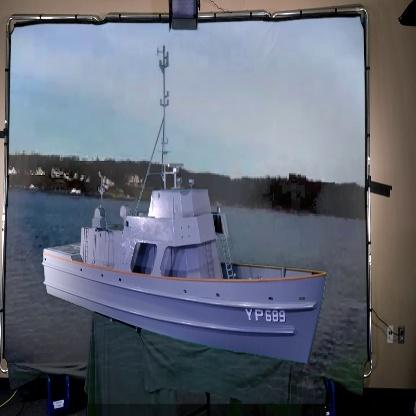YP689: (40, 47, 331, 371)
